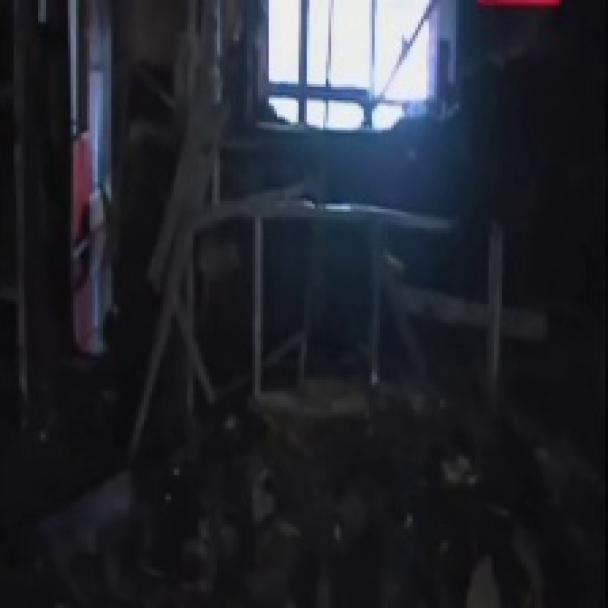smoke: (246, 14, 484, 388)
